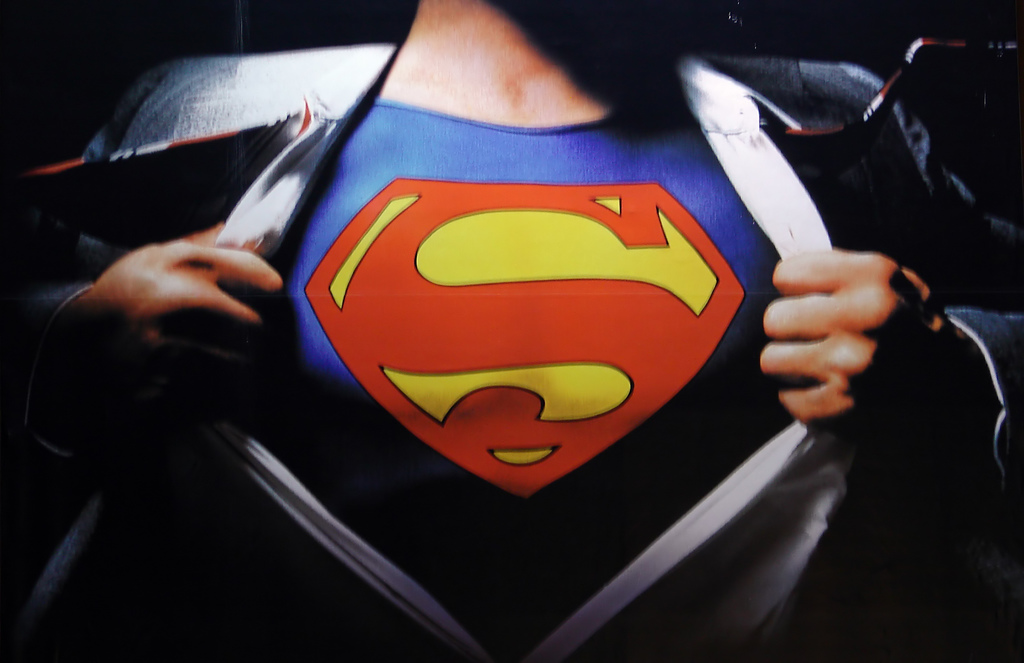Person: (0, 0, 1024, 662)
